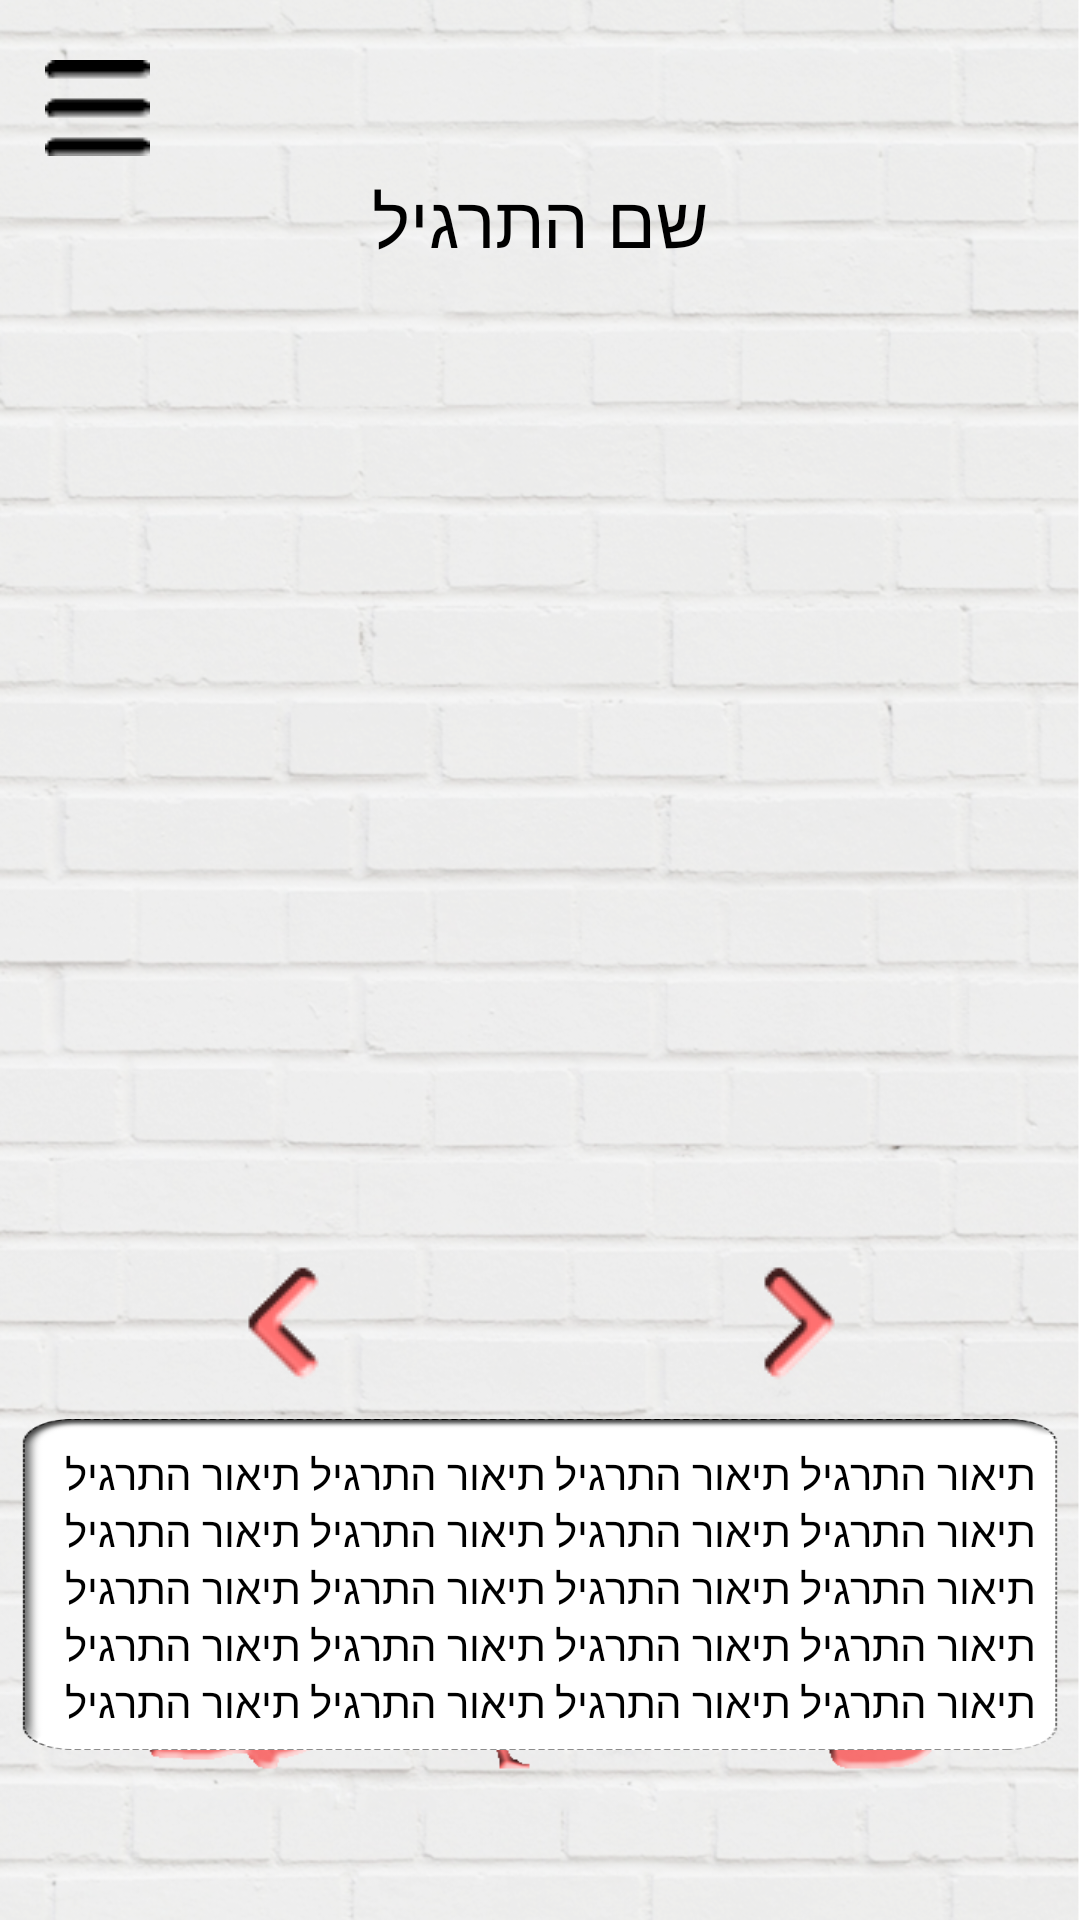

Where to tap for icons on this 1080px x 1920px app screen, as (x=x, y=y):
אחורה: (x=799, y=1322)
קדימה: (x=283, y=1322)
תפריט: (x=97, y=108)
